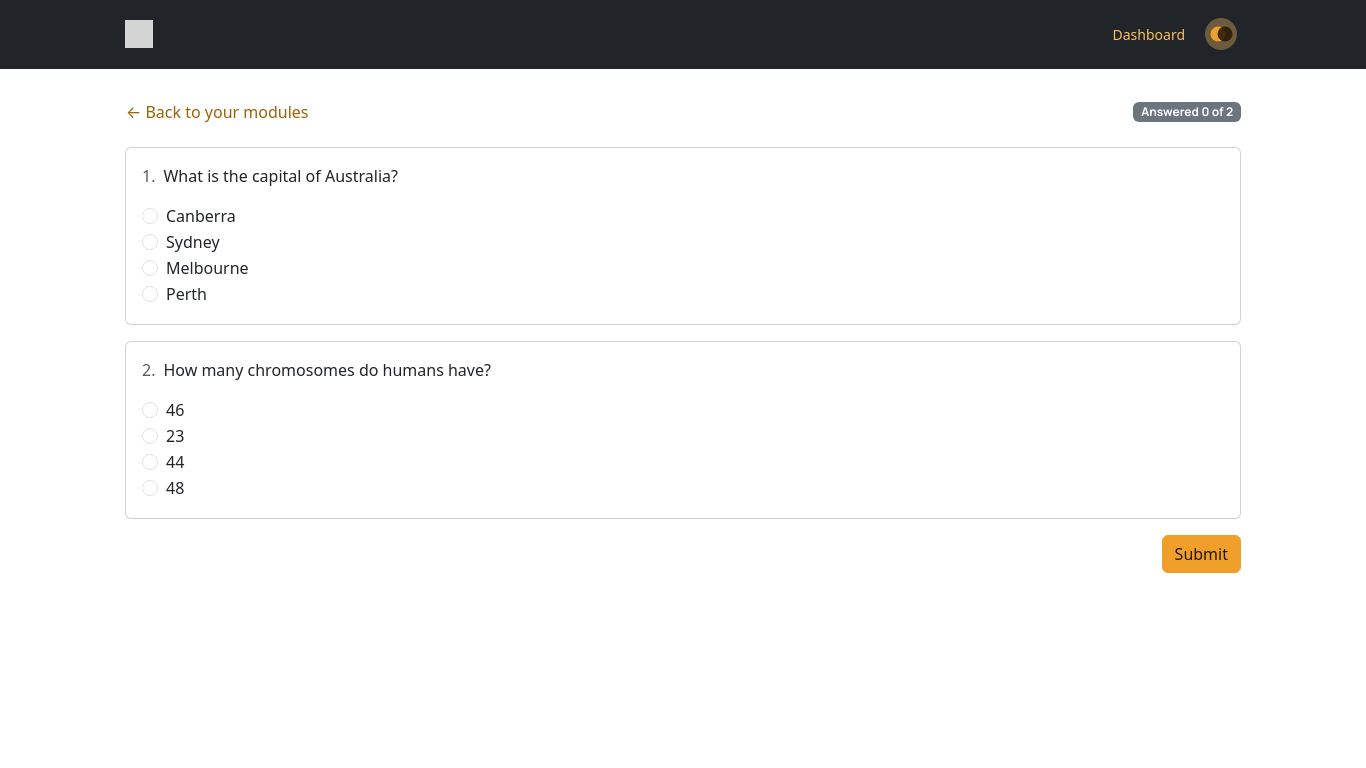
Scenario: submitting › scores the attempt and locks the whole page
Expected: the text "What is the capital of Australia?" is shown, x1=164 y1=165 x2=398 y2=187
Click the radio button labelled "Canberra".
click(150, 216)  # box x1=142 y1=208 x2=158 y2=224
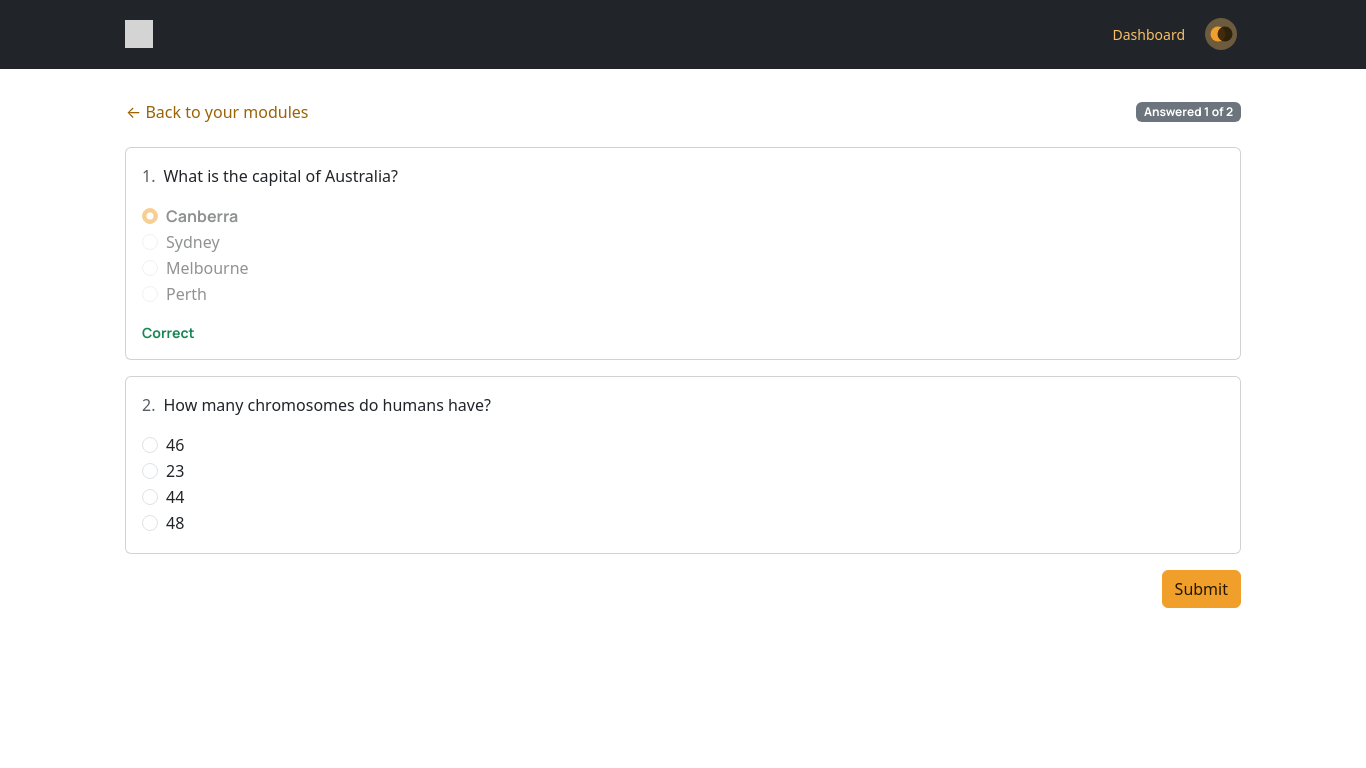
Expected: the text "Correct" is shown, x1=142 y1=323 x2=195 y2=342
Click the button "Submit".
click(1201, 589)  # box x1=1162 y1=570 x2=1241 y2=608
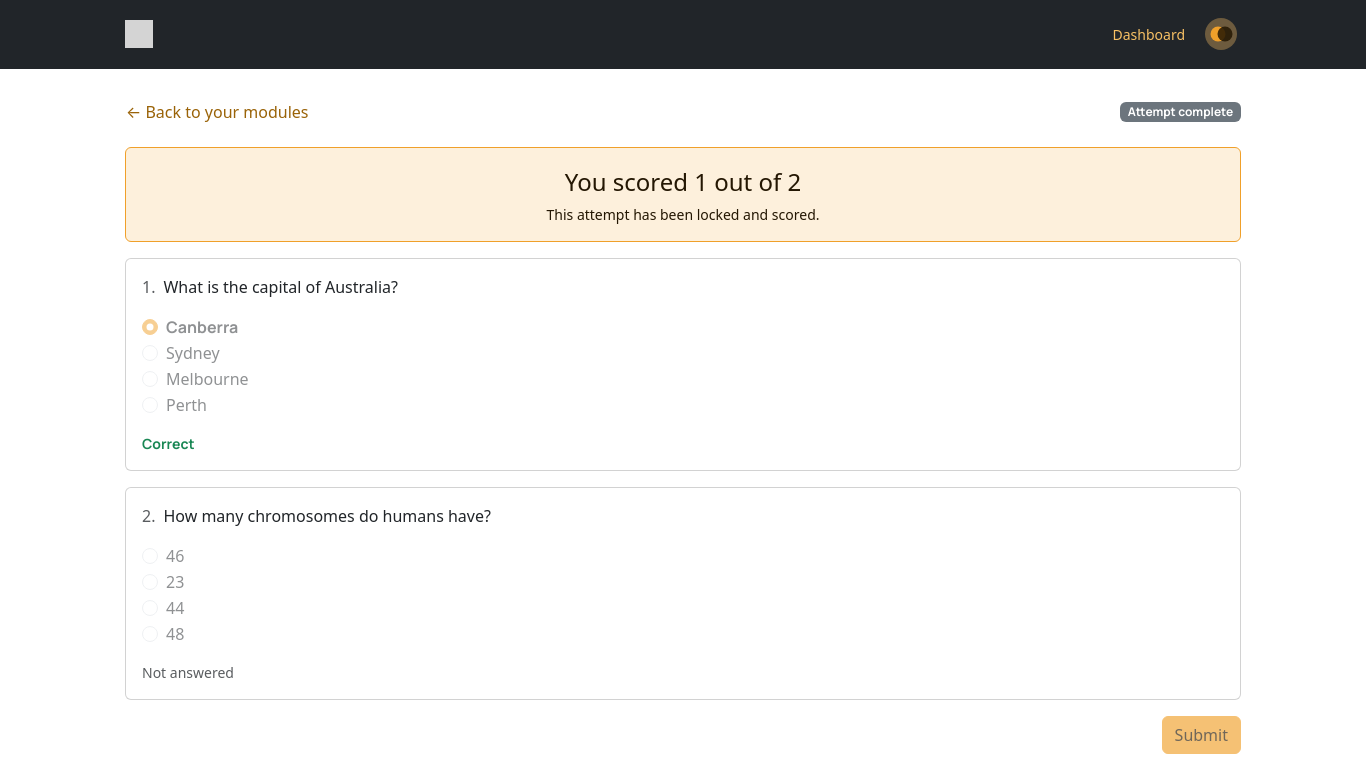
Expected: the radio button labelled "Canberra" is disabled, x1=142 y1=319 x2=158 y2=335
Expected: the text "You scored 1 out of 2" is shown, x1=565 y1=165 x2=801 y2=198
Expected: the button "Submit" is disabled, x1=1162 y1=716 x2=1241 y2=754
